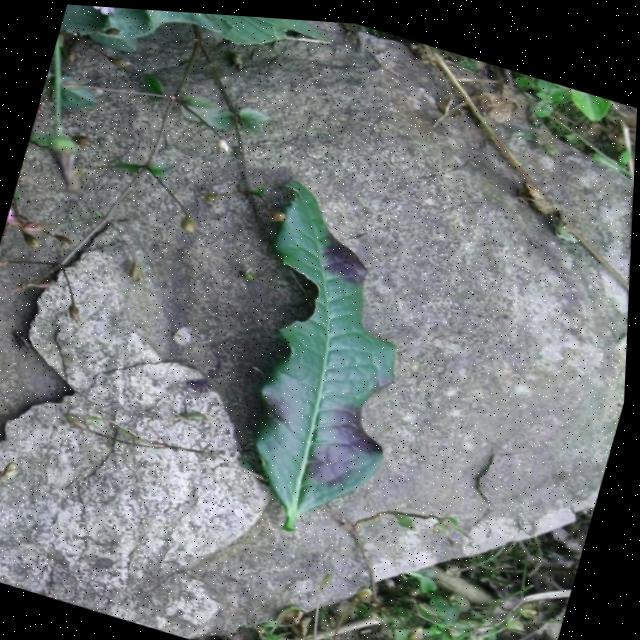Tea exobasidium blight: (309, 357, 416, 483), (292, 191, 405, 288)
